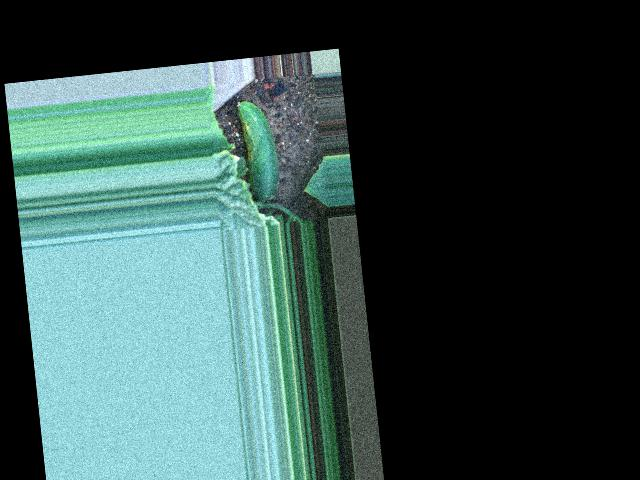cucumber: (236, 98, 281, 201)
